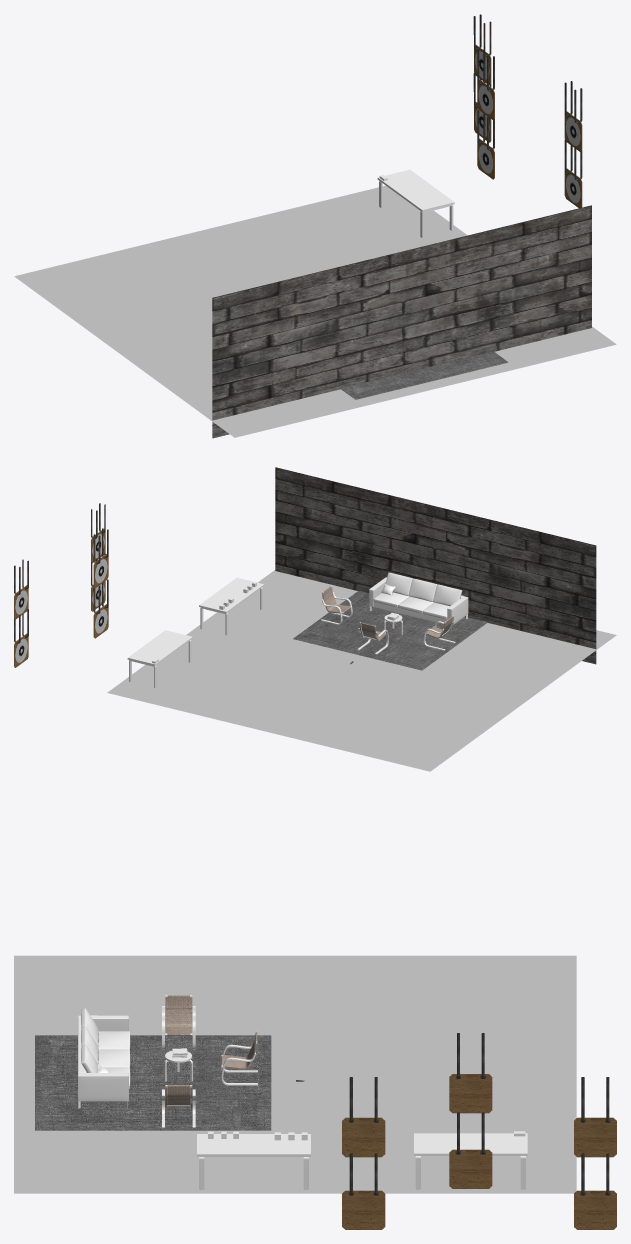
3 renders of one model, top to bottom at view 1: azimuth 30°, elevation 25°; view 2: azimuth 150°, elevation 25°; view 3: azimuth 270°, elevation 25°, orthographic. The views are drawn at different scales.
Parts seen in each view (by area): view 1: Wall, Ground, Rug Woven Wool Natural, Table_97_Top, Military Target Static, Military Target Static (3), Military target Moving backwards, Military target Moving sidetoside, Military Target Static (1); view 2: Ground, Wall, Rug Woven Wool Natural, Sofa_Stirling_SL03_Allemuir_Seat, Table_97_Top (×2), Military target Moving backwards, Military target Moving sidetoside, Military Target Static (1), Military Target Static (2), Military Target Static; view 3: Ground, Rug Woven Wool Natural, Sofa_Stirling_SL03_Allemuir_Seat, Table_97_Top (×2), Military Target Static, Military Target Static (1), Military Target Static (3), Military target Moving backwards, Military Target Static (2), Military target Moving sidetoside, Armchair_406_Seat (×2), Table_97_Frame (×2).
Part boxes in pixels (x1=…): Wall: x1=212, y1=205, x2=591, y2=438; Ground: x1=14, y1=185, x2=616, y2=437; Rug Woven Wool Natural: x1=340, y1=351, x2=508, y2=399; Table_97_Top: x1=378, y1=169, x2=454, y2=209; Military Target Static: x1=564, y1=81, x2=582, y2=151; Military Target Static (3): x1=564, y1=139, x2=582, y2=208; Military target Moving backwards: x1=477, y1=49, x2=494, y2=120; Military target Moving sidetoside: x1=477, y1=110, x2=494, y2=179; Military Target Static (1): x1=473, y1=14, x2=491, y2=85; Ground: x1=107, y1=570, x2=616, y2=771; Wall: x1=275, y1=467, x2=596, y2=664; Rug Woven Wool Natural: x1=293, y1=591, x2=487, y2=670; Sofa_Stirling_SL03_Allemuir_Seat: x1=369, y1=572, x2=468, y2=624; Table_97_Top (×2): x1=128, y1=577, x2=263, y2=664; Military target Moving backwards: x1=93, y1=528, x2=108, y2=588; Military target Moving sidetoside: x1=93, y1=579, x2=108, y2=638; Military Target Static (1): x1=14, y1=559, x2=28, y2=619; Military Target Static (2): x1=14, y1=609, x2=28, y2=667; Military Target Static: x1=91, y1=503, x2=105, y2=563; Ground: x1=14, y1=955, x2=576, y2=1193; Rug Woven Wool Natural: x1=35, y1=1035, x2=271, y2=1130; Sofa_Stirling_SL03_Allemuir_Seat: x1=78, y1=1008, x2=130, y2=1101; Table_97_Top (×2): x1=197, y1=1133, x2=527, y2=1154; Military Target Static: x1=342, y1=1077, x2=385, y2=1157; Military Target Static (1): x1=574, y1=1077, x2=616, y2=1157; Military Target Static (3): x1=342, y1=1153, x2=385, y2=1229; Military target Moving backwards: x1=449, y1=1033, x2=492, y2=1113; Military Target Static (2): x1=574, y1=1153, x2=616, y2=1229; Military target Moving sidetoside: x1=449, y1=1112, x2=492, y2=1188; Armchair_406_Seat (×2): x1=165, y1=995, x2=192, y2=1108; Table_97_Frame (×2): x1=197, y1=1153, x2=527, y2=1189.
Bounding box in the file's own units: 12.55 × 4.14 × 10.72.
